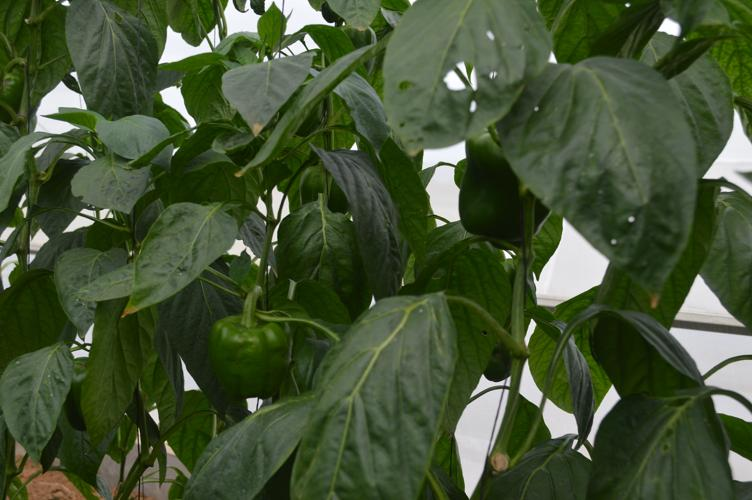BellPepper: (452, 129, 548, 241), (216, 316, 292, 400), (296, 163, 345, 213)
